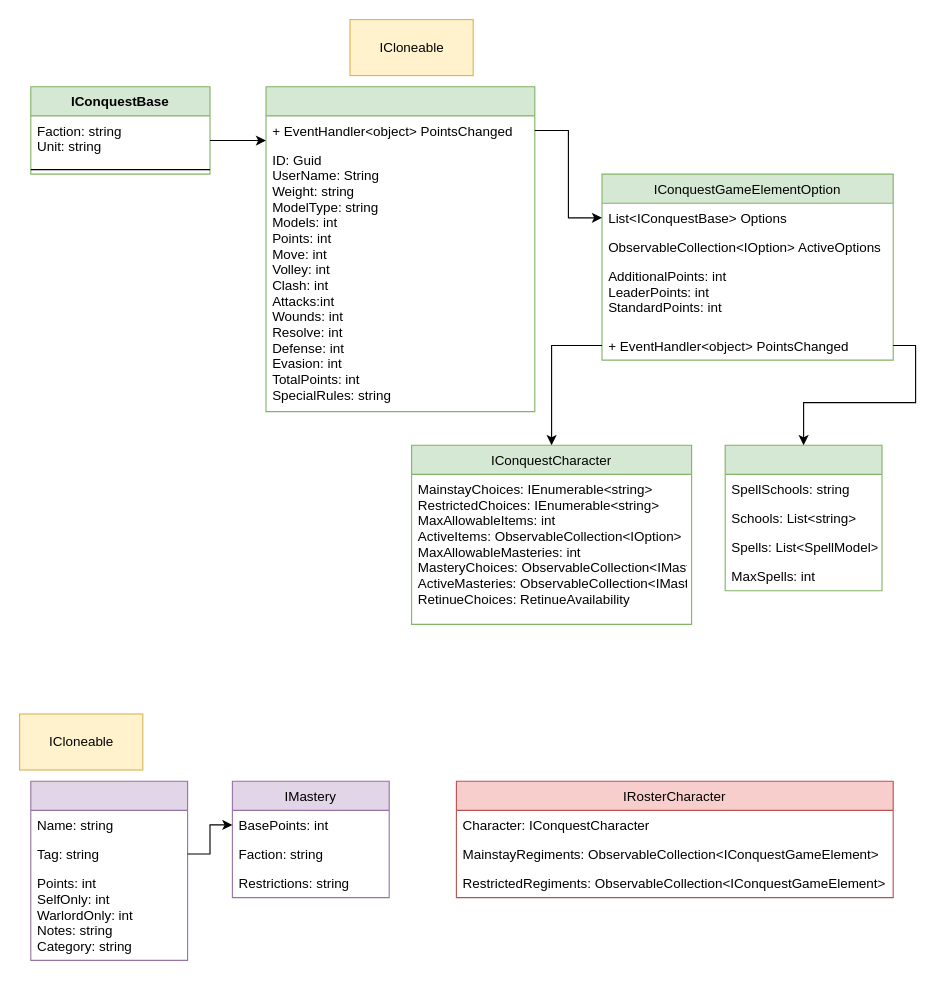
Some shapes in this 944 by 983 pixel diagram are drawn without their labels. The box of each missing label's shape, as (x1, y1, x2, y2) in pixels:
IConquestGameElement: (265, 86, 535, 412)
IConquestSpellcaster: (724, 444, 882, 591)
IOption: (30, 780, 188, 960)
